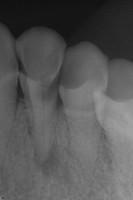Furcation Involvement: (36, 138, 61, 175)
